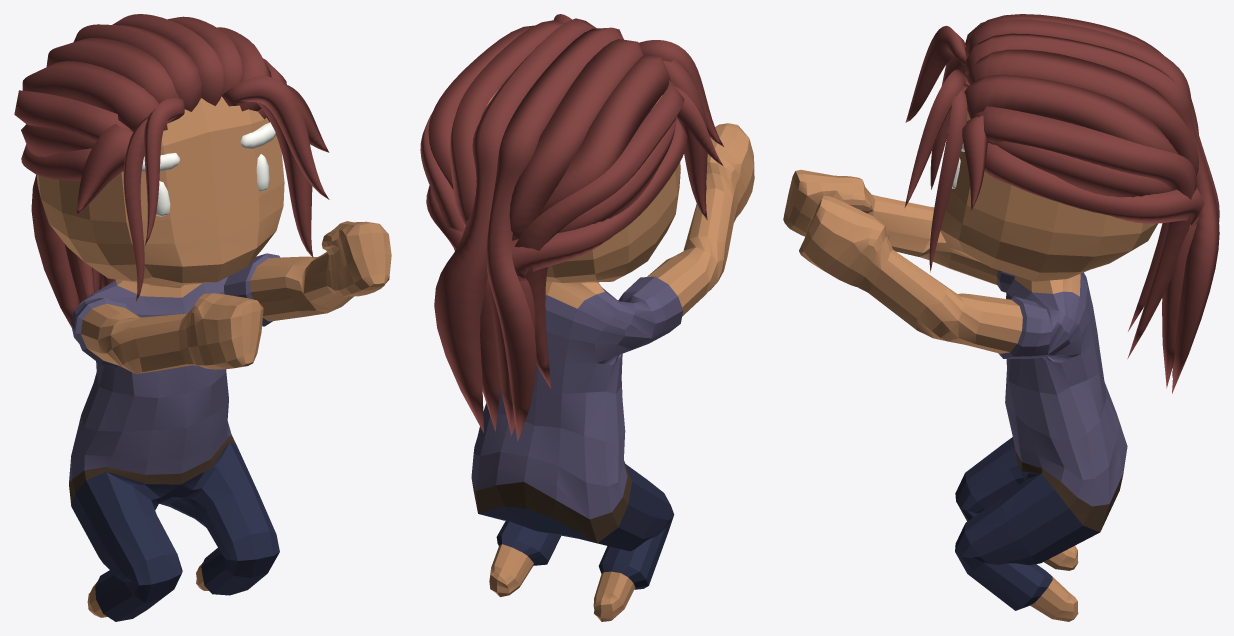
The model's file is saut-femme.glb.
3 views of the same model, side by side, from view 1: azimuth 30°, elevation 25°; view 2: azimuth 150°, elevation 25°; view 3: azimuth 270°, elevation 25° (orthographic). The views are drawn at different scales.
Parts seen in each view (by area): view 1: Cube004, Cube004_5, Cube004_2, Cube004_1, Cube004_4, Cube004_3; view 2: Cube004_5, Cube004_1, Cube004, Cube004_2, Cube004_3; view 3: Cube004_5, Cube004, Cube004_1, Cube004_2, Cube004_3.
Boxes of the visible parts, x1=… form: Cube004: x1=36, y1=96, x2=391, y2=617; Cube004_5: x1=14, y1=14, x2=329, y2=327; Cube004_2: x1=71, y1=442, x2=279, y2=621; Cube004_1: x1=69, y1=253, x2=280, y2=483; Cube004_4: x1=141, y1=122, x2=275, y2=216; Cube004_3: x1=69, y1=435, x2=235, y2=505; Cube004_5: x1=420, y1=14, x2=723, y2=441; Cube004_1: x1=471, y1=276, x2=682, y2=519; Cube004: x1=486, y1=87, x2=754, y2=621; Cube004_2: x1=478, y1=464, x2=674, y2=589; Cube004_3: x1=471, y1=461, x2=631, y2=543; Cube004_5: x1=904, y1=14, x2=1219, y2=393; Cube004: x1=783, y1=72, x2=1158, y2=621; Cube004_1: x1=997, y1=270, x2=1127, y2=506; Cube004_2: x1=955, y1=437, x2=1099, y2=610; Cube004_3: x1=1015, y1=451, x2=1126, y2=531.
Bounding box in the file's own units: 0.6393 × 1.41 × 0.9841.
